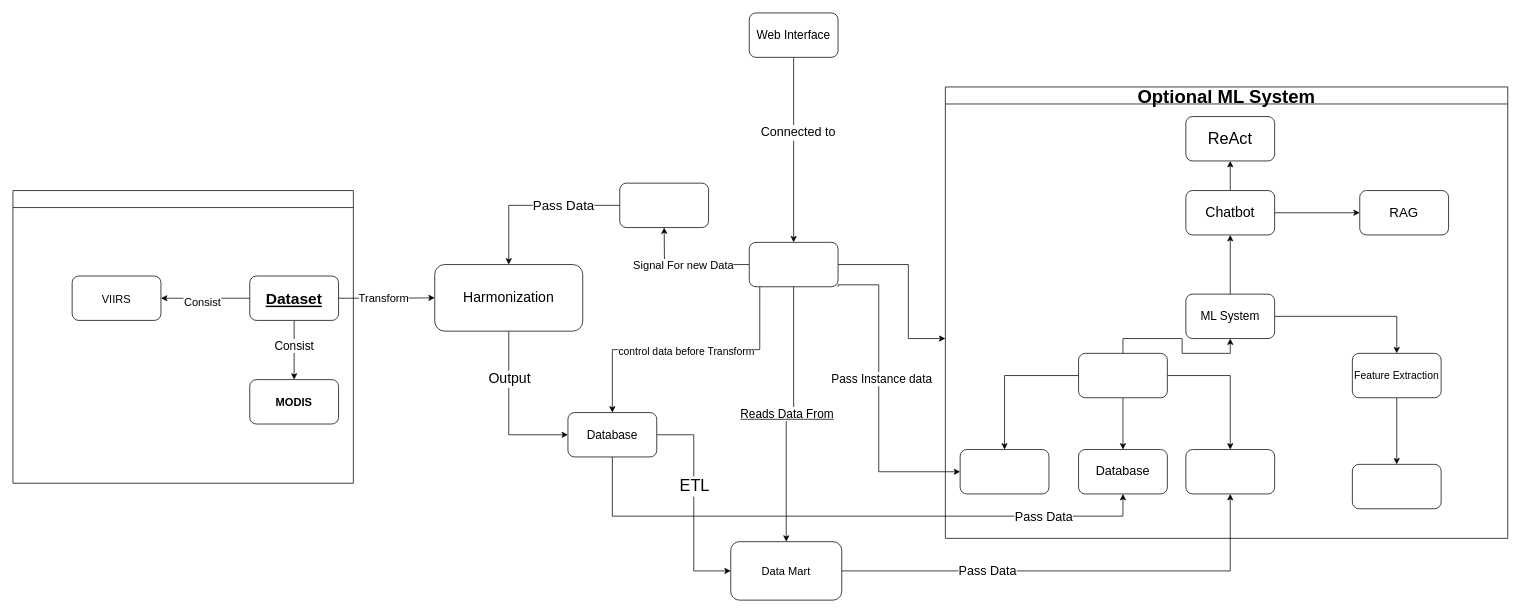
This 1521x613 diagram has some shape labels left out. The shapes that lost their labels are listed below. From the top down, each one's centre as x and y in pixels, then its label:
pixel 664 205: Data Scrapper
pixel 793 264: Back end
pixel 182 336: Starting Point
pixel 1122 375: Data Reader
pixel 1004 471: Data Instance
pixel 1230 471: Data warehouse
pixel 1396 486: ML model
